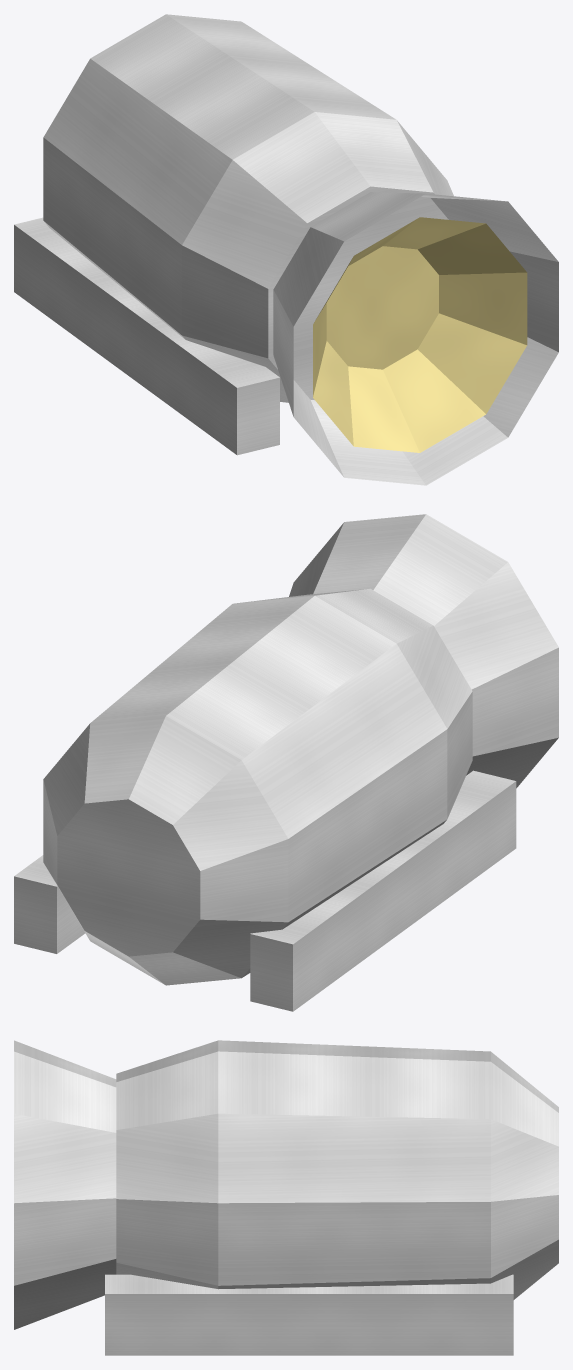
The model's file is ship_engine.obj.
3 views of the same model, one above another, from view 1: azimuth 30°, elevation 25°; view 2: azimuth 150°, elevation 25°; view 3: azimuth 270°, elevation 25° (orthographic). The views are drawn at different scales.
Visible parts, largest first — view 1: ship_engine; view 2: ship_engine; view 3: ship_engine.
Part boxes in pixels (x1,y1,x2,y2): ship_engine: (14, 14, 558, 485); ship_engine: (14, 514, 558, 1011); ship_engine: (14, 1040, 558, 1355).
Bounding box in the file's own units: 2.6 × 2.6 × 4.8.
